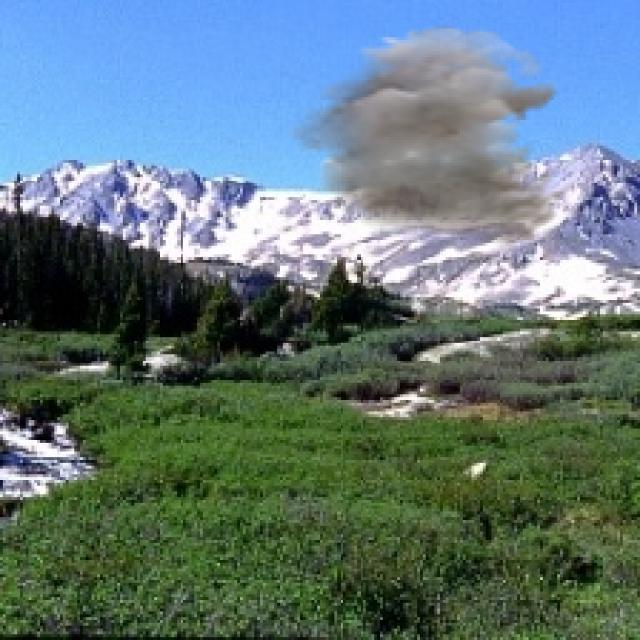Smoke: (283, 26, 566, 246)
